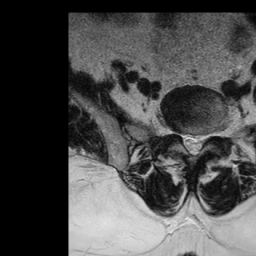CCS_normal: (189, 125, 197, 160)
LFS_stenosis: (205, 123, 214, 145)
LLS_normal: (197, 126, 205, 157)
RFS_severe_stenosis: (173, 120, 181, 145)
RLS_normal: (181, 124, 189, 156)
